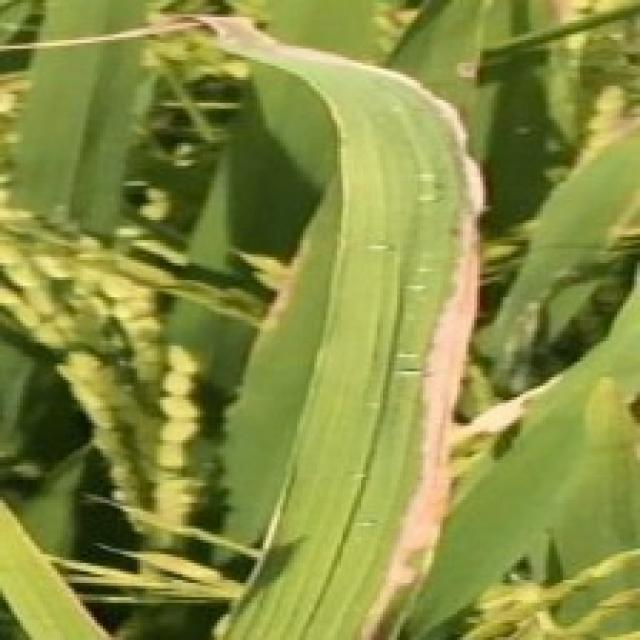Unhealthy: (184, 14, 488, 640)
